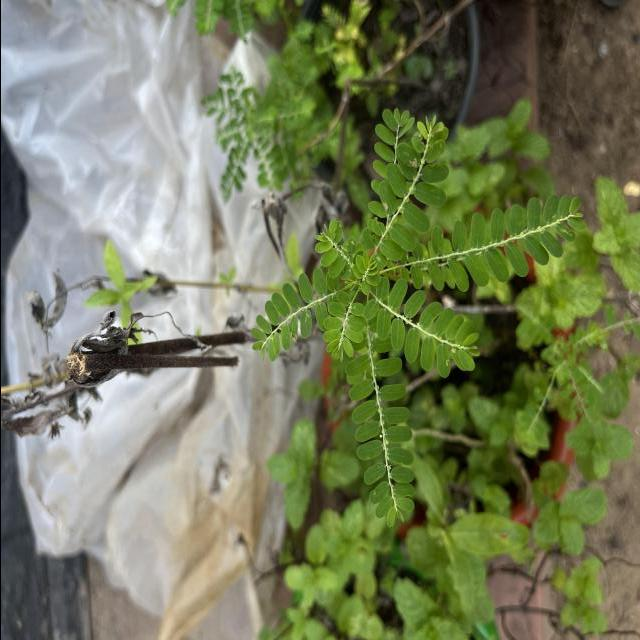Phyllanthus niruri: (410, 190, 588, 294), (342, 337, 417, 528), (362, 276, 480, 380), (367, 118, 450, 264), (248, 266, 329, 364), (320, 286, 368, 362), (310, 216, 359, 282)
